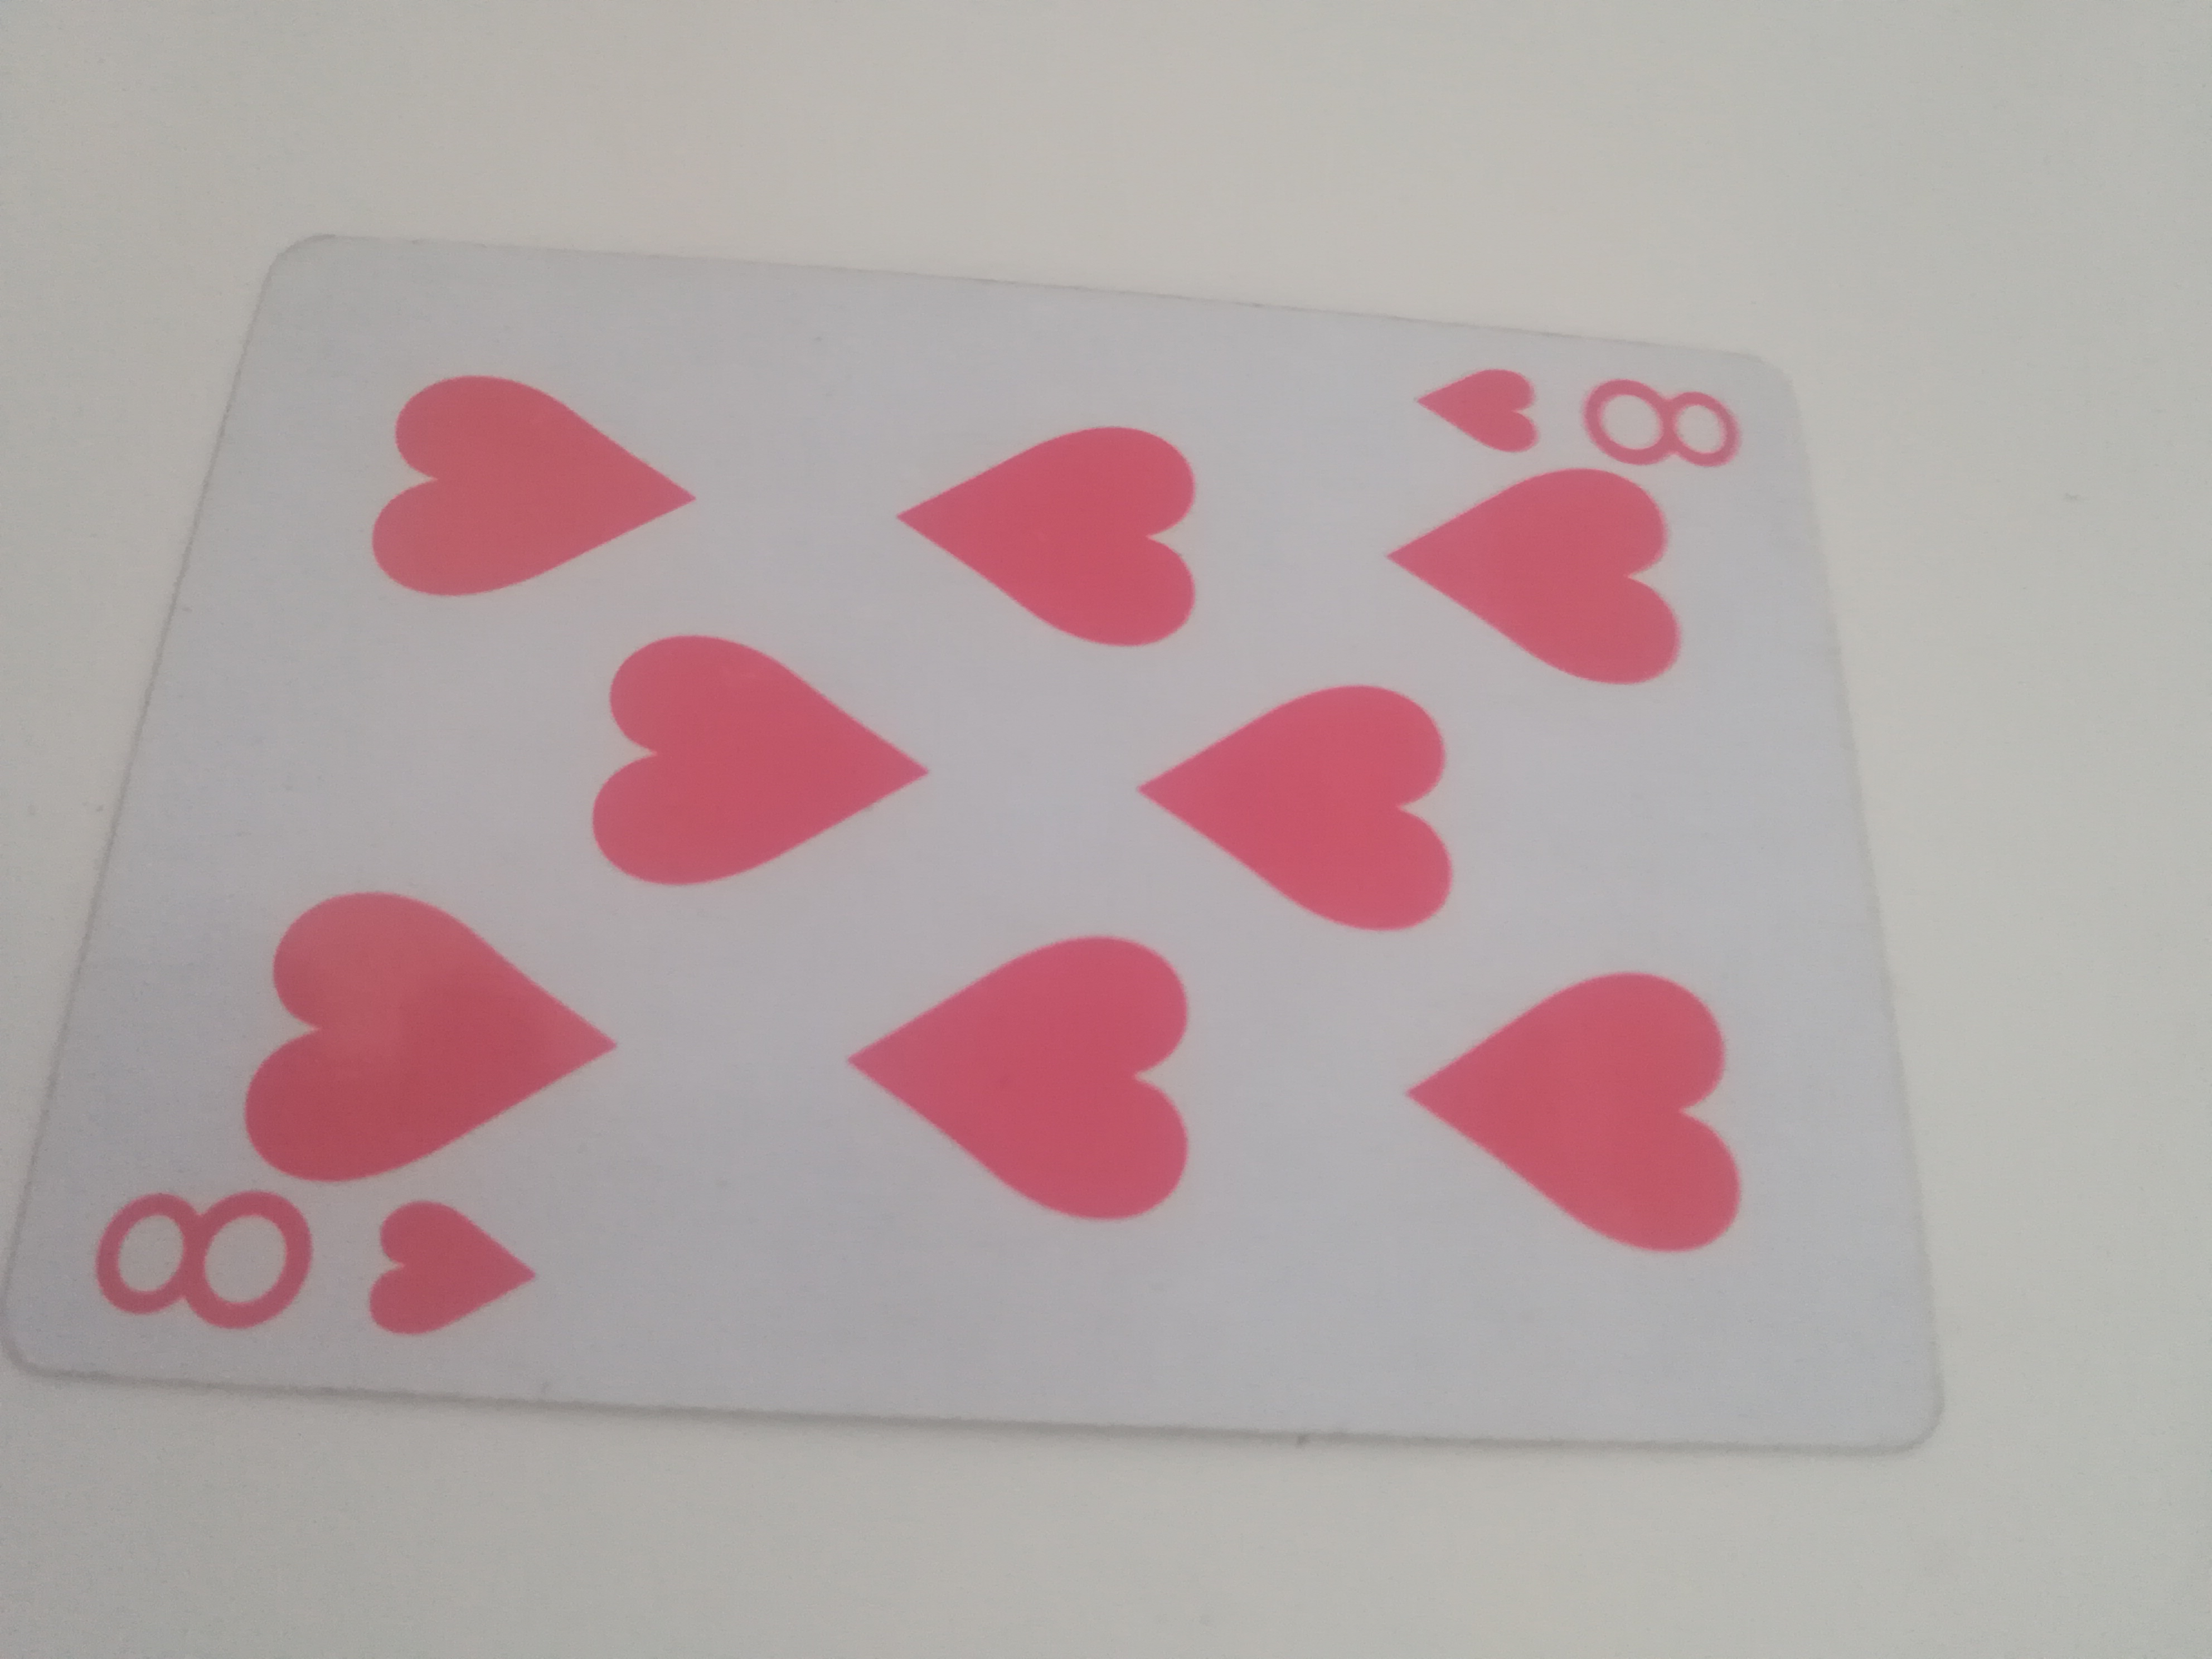8H: (0, 221, 1963, 1480)
